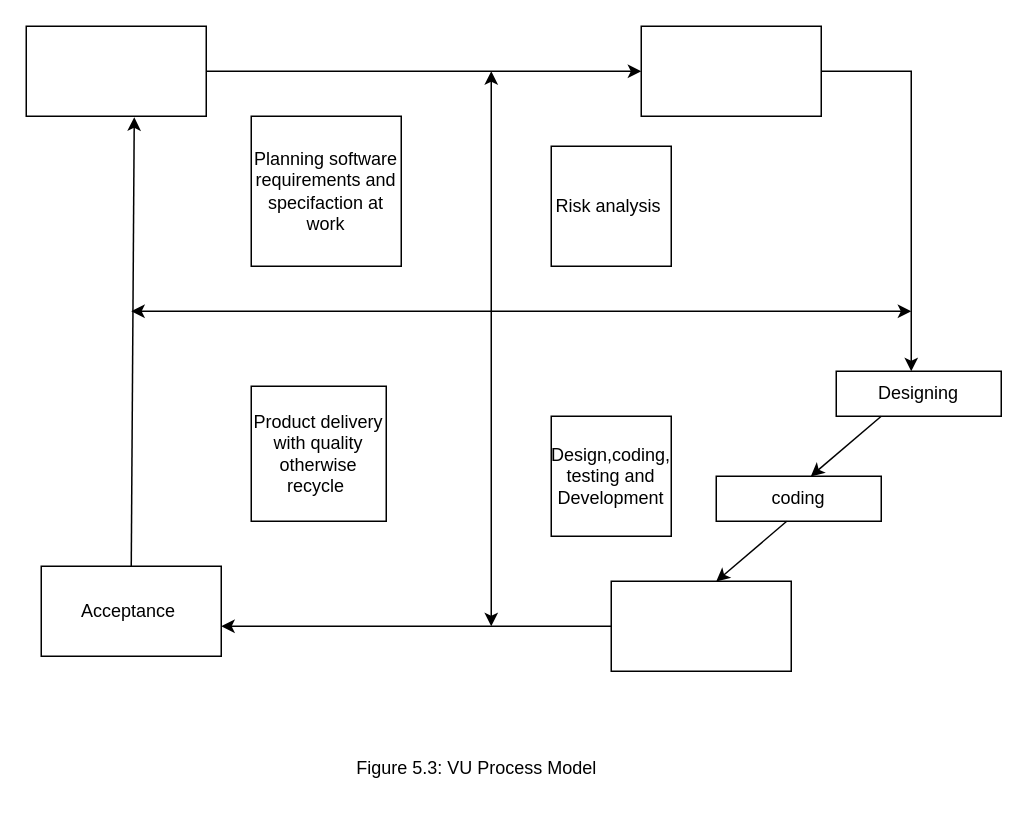
The diagram is 1028 pixels wide and 818 high, and some of its shapes have lost their labels. The shapes that lost their labels are listed below. From the top down, each one's centre as x and y in pixels, then its label:
At point (115, 70): "Requirements".
At point (730, 70): "System analysis".
At point (700, 625): "Testing".
